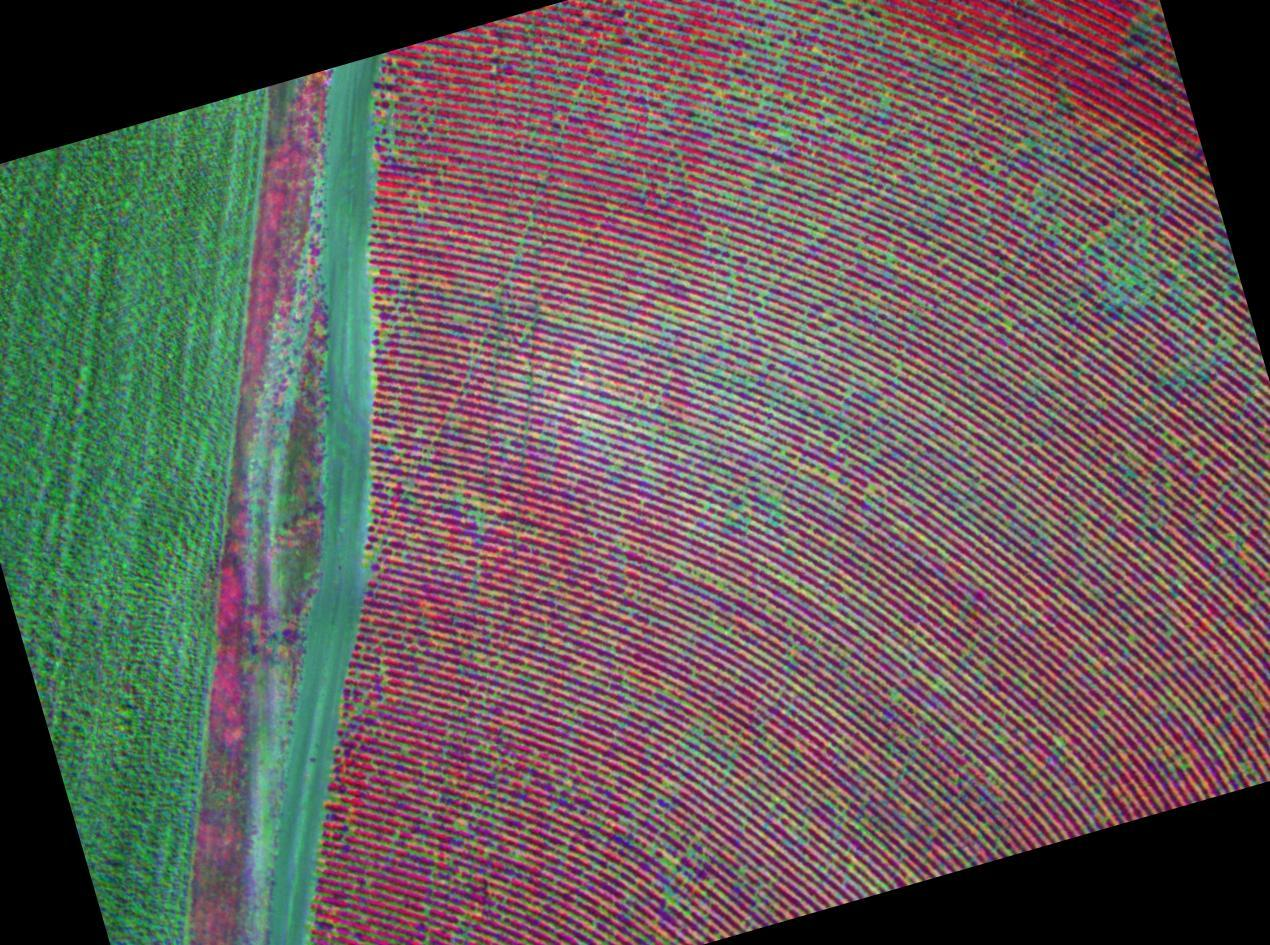dc: (1127, 279, 1133, 285), (1005, 320, 1011, 326), (848, 388, 853, 393), (831, 475, 836, 479), (1087, 250, 1091, 254), (897, 367, 901, 371), (730, 764, 734, 768), (664, 861, 668, 865), (665, 895, 669, 899), (773, 512, 778, 515), (1103, 228, 1107, 231), (710, 623, 713, 626)
